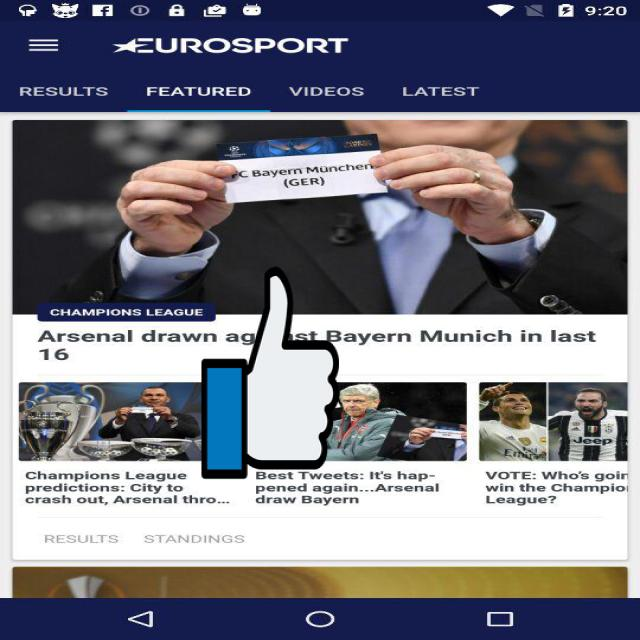privacy zuckering: (201, 262, 339, 483)
